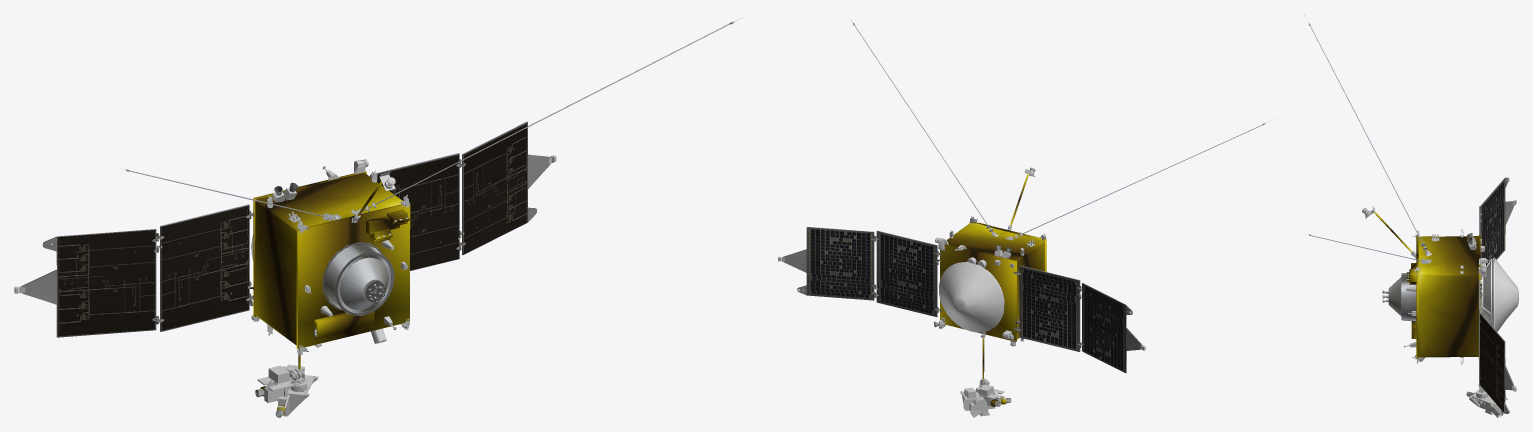
The model's file is maven_lod1.glb.
The picture shows the model from 3 angles, left to right: view 1: azimuth 30°, elevation 25°; view 2: azimuth 150°, elevation 25°; view 3: azimuth 270°, elevation 25°; orthographic projection. The views are drawn at different scales.
Parts seen in each view (by area): view 1: maven_lod1; view 2: maven_lod1; view 3: maven_lod1.
Boxes of the visible parts, bbox=[...] form: maven_lod1: bbox=[14, 14, 748, 417]; maven_lod1: bbox=[778, 19, 1274, 417]; maven_lod1: bbox=[1304, 14, 1518, 417].
Size of the model in its own units: 13.14 by 8.22 by 5.43.
Materials: 10 (3 with a texture image).
